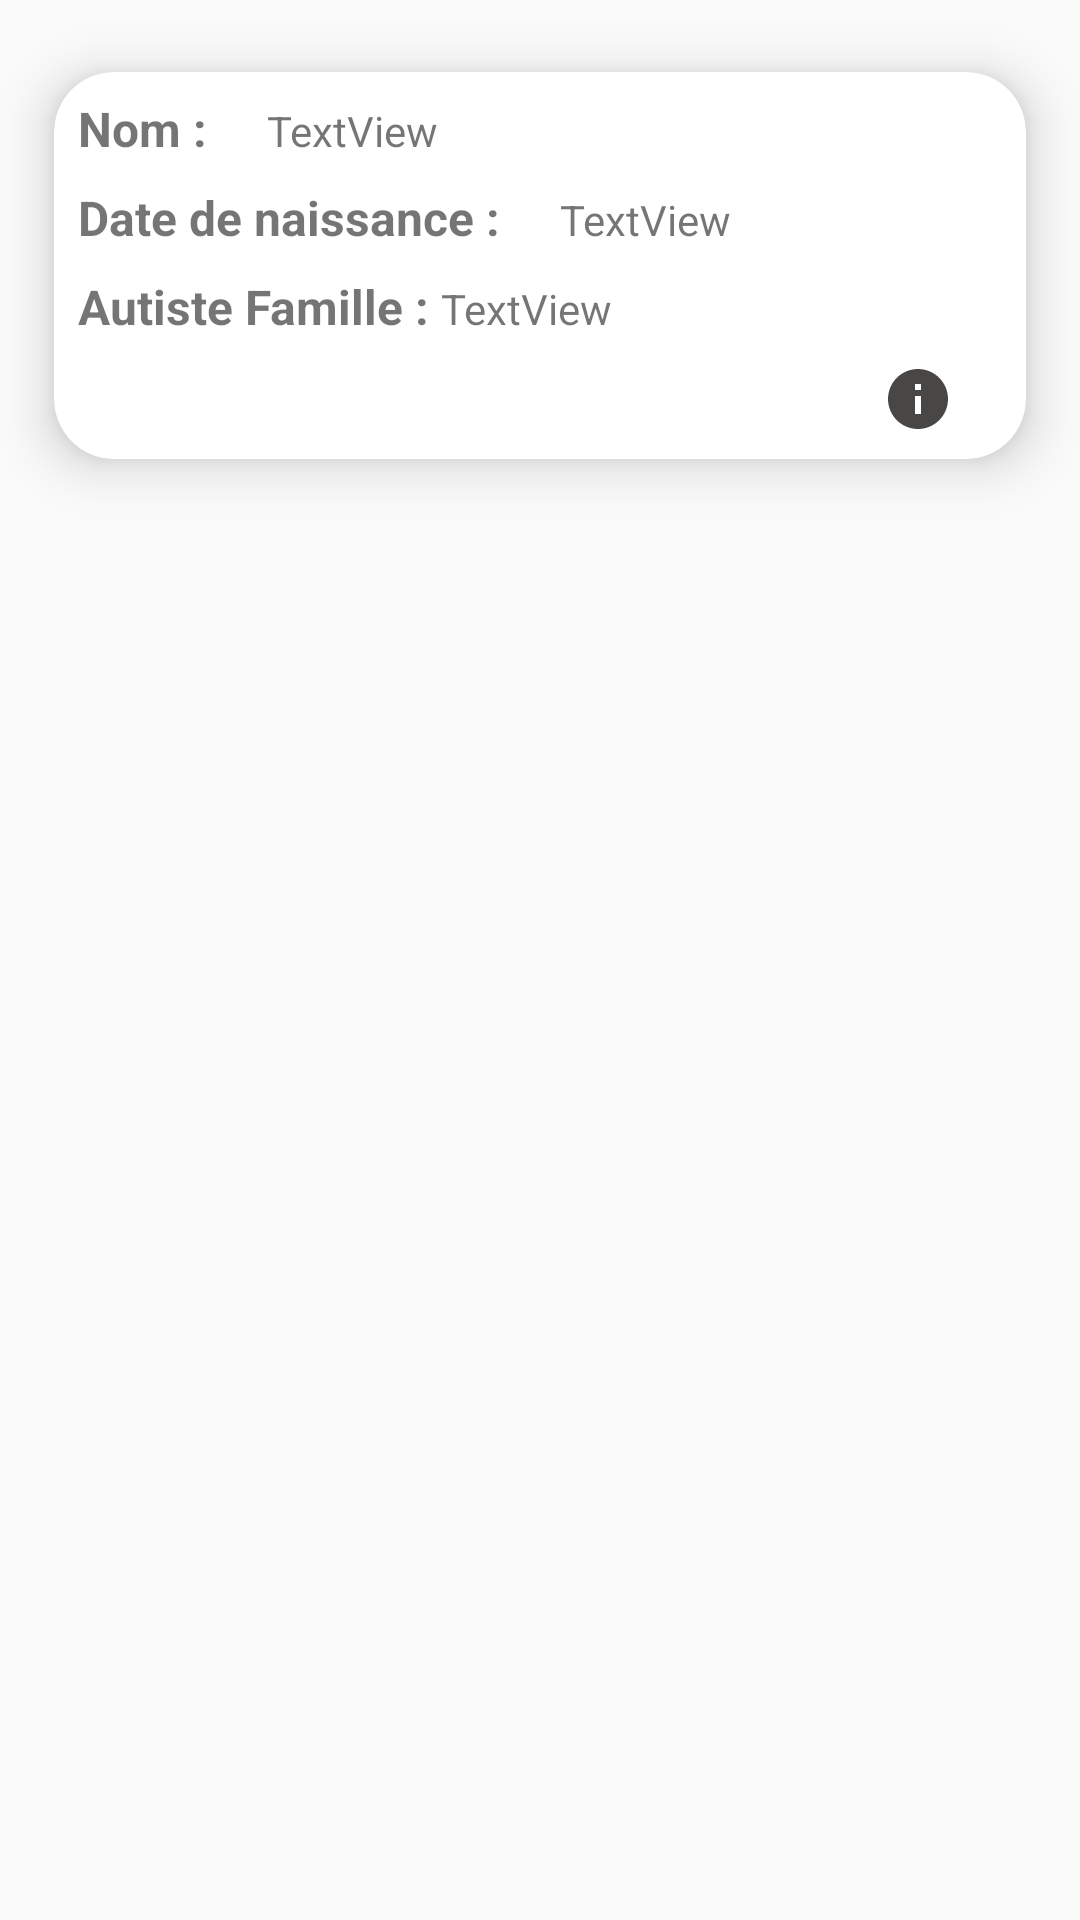

Named icons in this screenshot (1080*1920) and their centers, (x=x, y=y):
info: (x=918, y=399)
